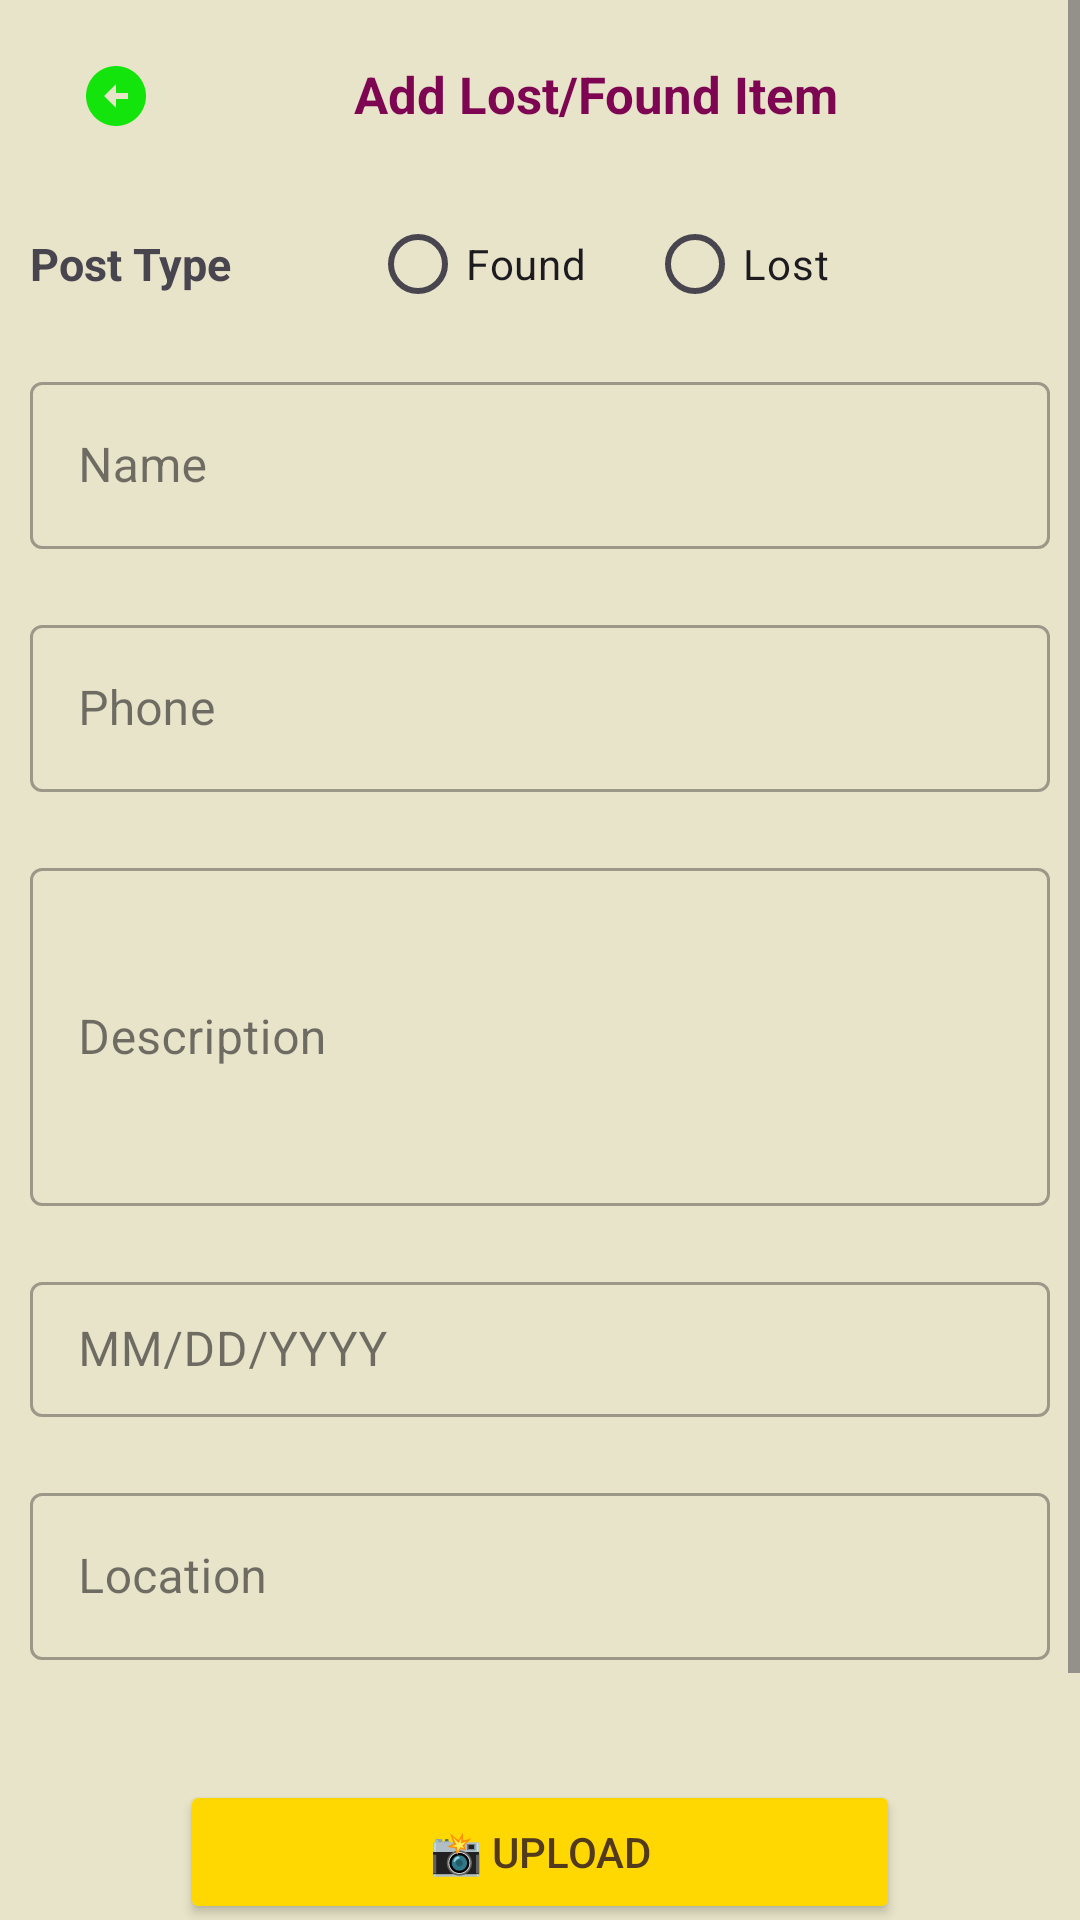

Named icons in this screenshot (1080*1920) and their centers, (x,y):
arrow circle left: (116,96)
